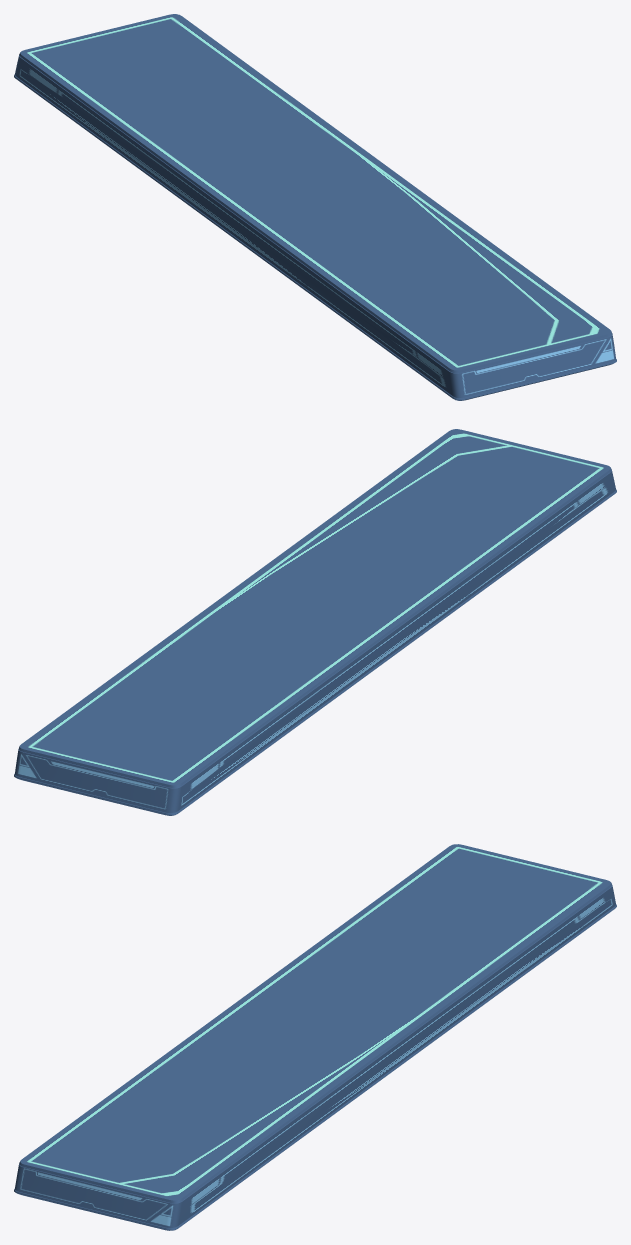
The model's file is 實驗室平台1.fbx.
3 renders of one model, top to bottom at view 1: azimuth 30°, elevation 25°; view 2: azimuth 150°, elevation 25°; view 3: azimuth 330°, elevation 25°, orthographic.
Visible parts, largest first — view 1: platformLAB1__1_.001; view 2: platformLAB1__1_.001; view 3: platformLAB1__1_.001.
Boxes of the visible parts, x1,y1,x2,y2 form: platformLAB1__1_.001: (14, 14, 616, 400); platformLAB1__1_.001: (14, 429, 616, 815); platformLAB1__1_.001: (14, 844, 616, 1230).
Bounding box in the file's own units: 234 × 38.14 × 1110.
